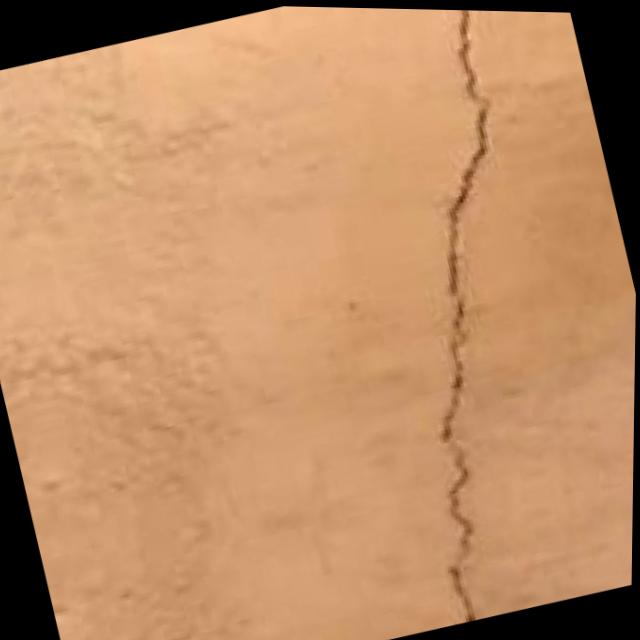Crack: (290, 5, 640, 628)
